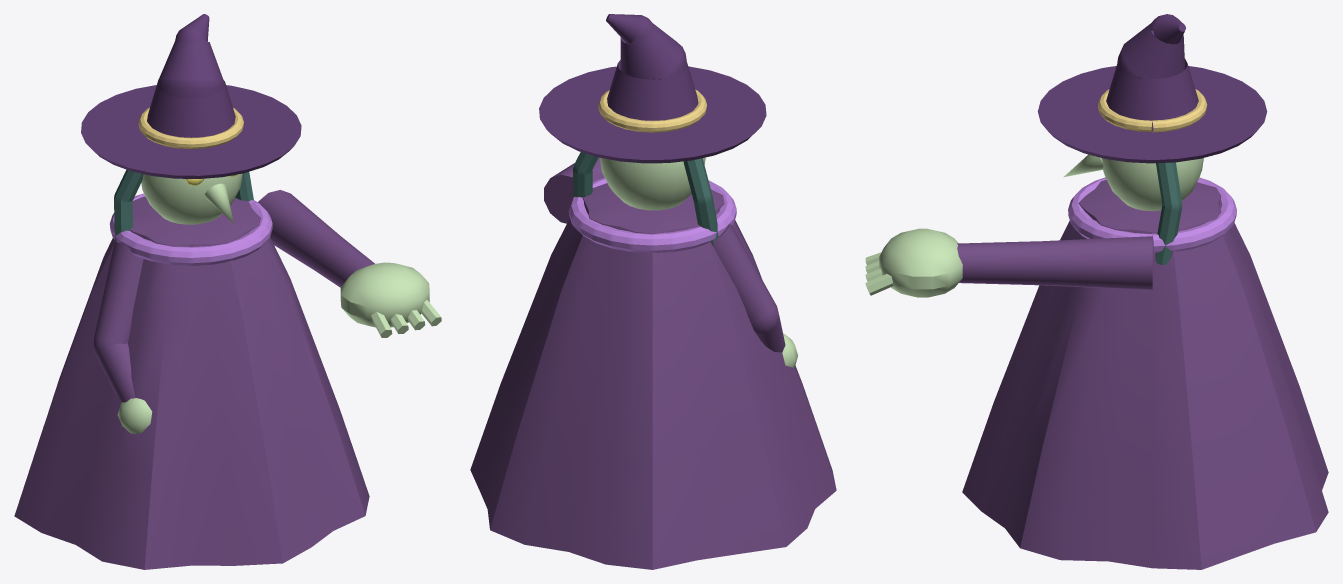
File: WITCH.fbx
3 views of the same model, side by side, from view 1: azimuth 30°, elevation 25°; view 2: azimuth 150°, elevation 25°; view 3: azimuth 270°, elevation 25° (orthographic). The views are drawn at different scales.
Visible parts, largest first — view 1: Robe, Hat, Arm, ArmLeft, Head; view 2: Robe, Hat, Head, ArmLeft, Arm; view 3: Robe, Hat, Arm, Head.
Boxes of the visible parts, bbox=[...] form: Robe: bbox=[14, 193, 369, 569]; Hat: bbox=[81, 14, 301, 178]; Arm: bbox=[258, 190, 441, 337]; ArmLeft: bbox=[93, 242, 152, 433]; Head: bbox=[114, 169, 253, 242]; Robe: bbox=[470, 177, 836, 569]; Hat: bbox=[539, 14, 766, 163]; Head: bbox=[573, 152, 718, 246]; ArmLeft: bbox=[713, 224, 797, 367]; Arm: bbox=[544, 157, 604, 223]; Robe: bbox=[962, 177, 1328, 569]; Hat: bbox=[1037, 14, 1267, 163]; Arm: bbox=[865, 228, 1152, 297]; Head: bbox=[1063, 154, 1203, 265].
Bounding box in the file's own units: 66.22 × 96.03 × 83.59.
